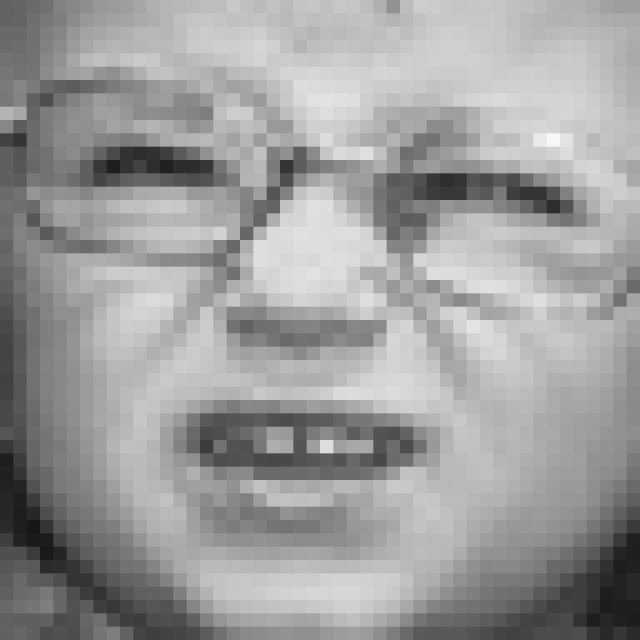disgust: (16, 59, 640, 565)
